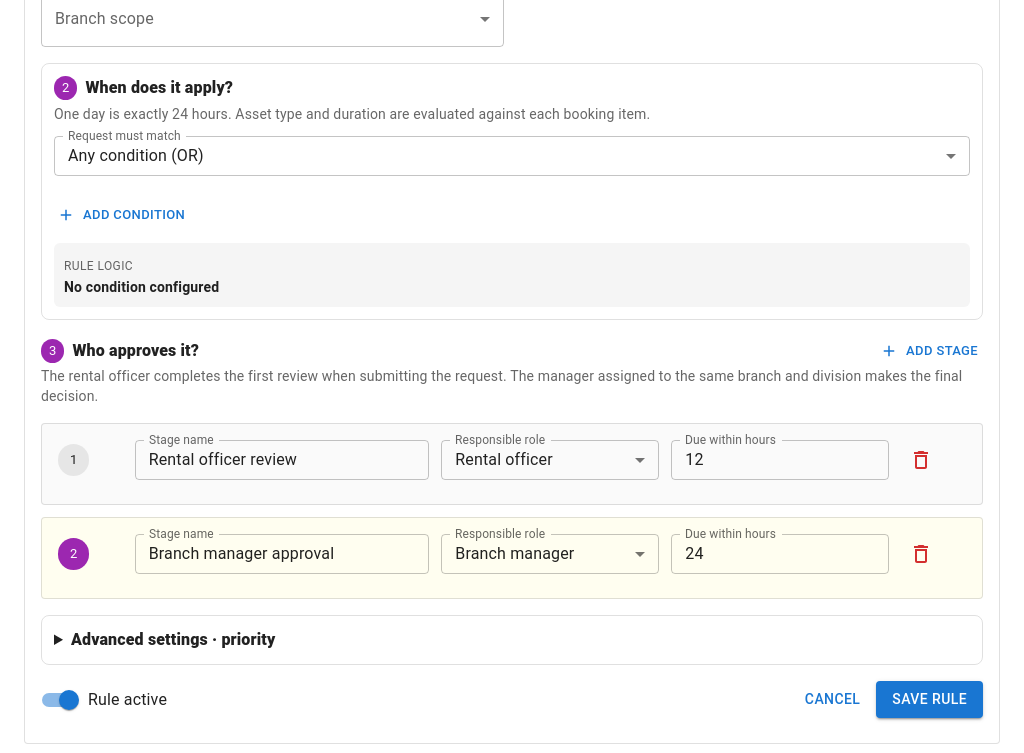
requires a name and at least one condition before saving
(page scrolled)
Click the button "Save rule" at (930, 700), box [876,681,983,718]
(page scrolled)
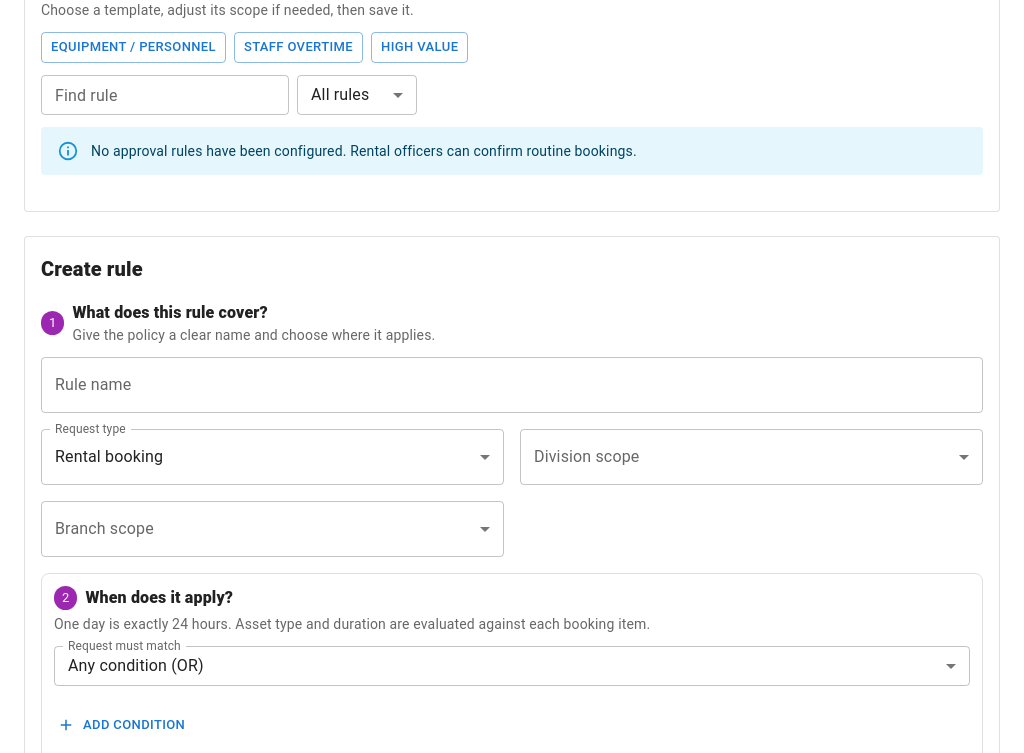
Type "Custom rule" into the field labelled "Rule name" at (512, 385), box [41,357,983,413]
(page scrolled)
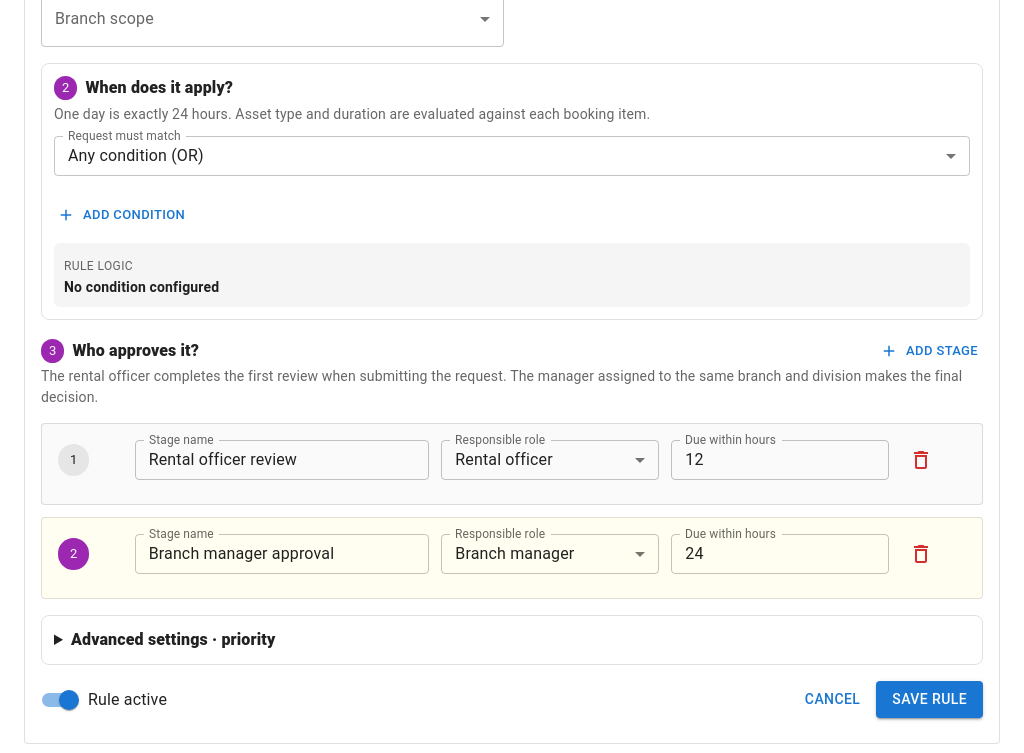
Click the button "Save rule" at (930, 700), box [876,681,983,718]
(page scrolled)
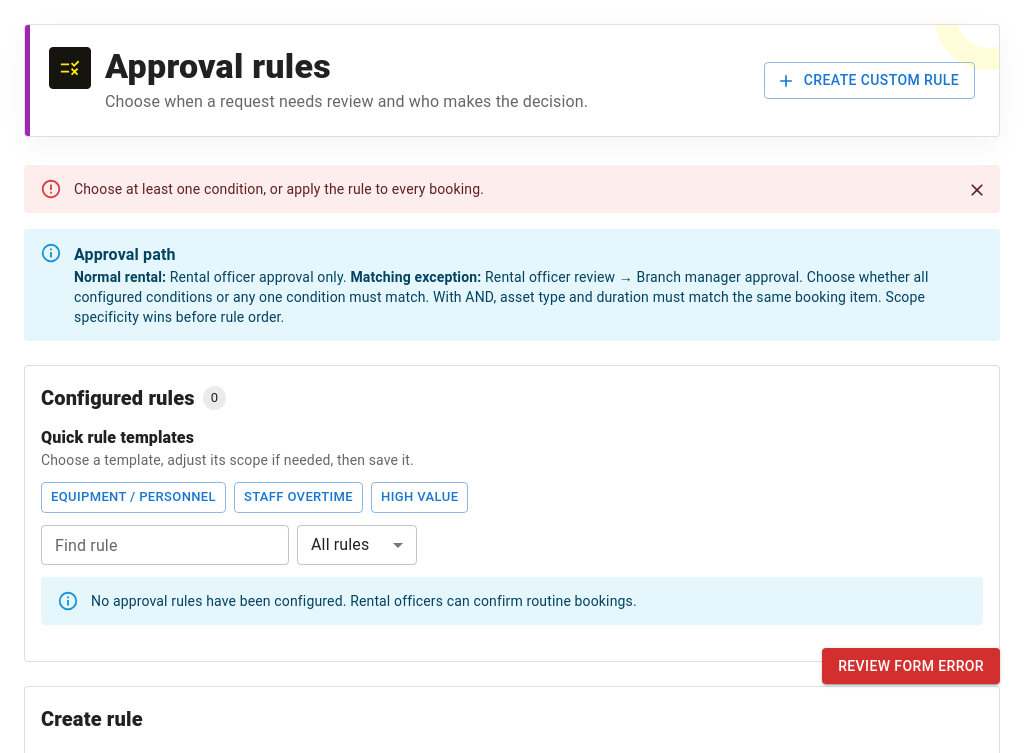
Check: the text "Choose at least one condition, or apply the rule to every booking." is shown, box [74,179,484,199]
